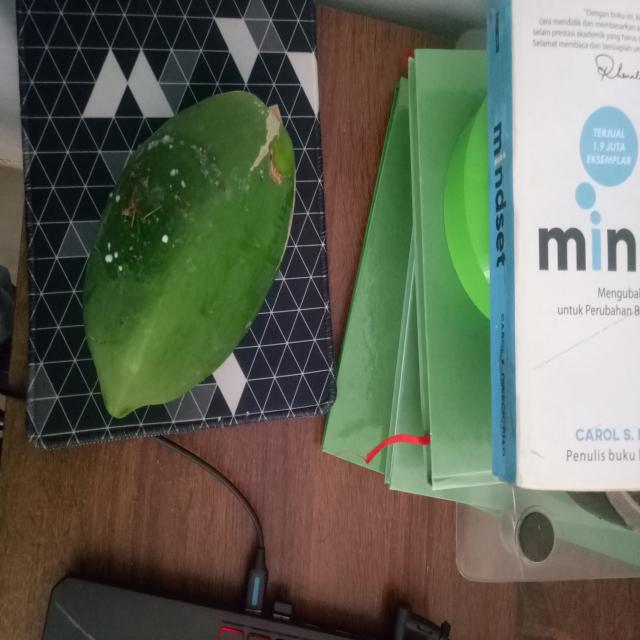Pepaya unrippen: (82, 99, 301, 414)
